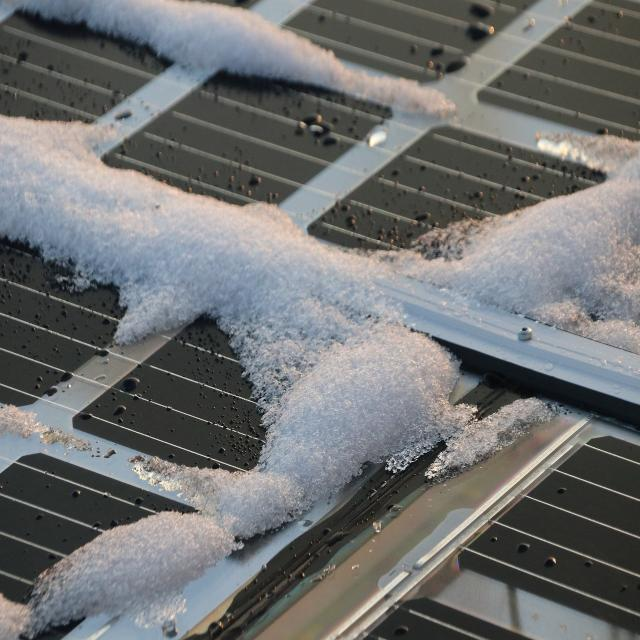Snow: (0, 2, 639, 638)
